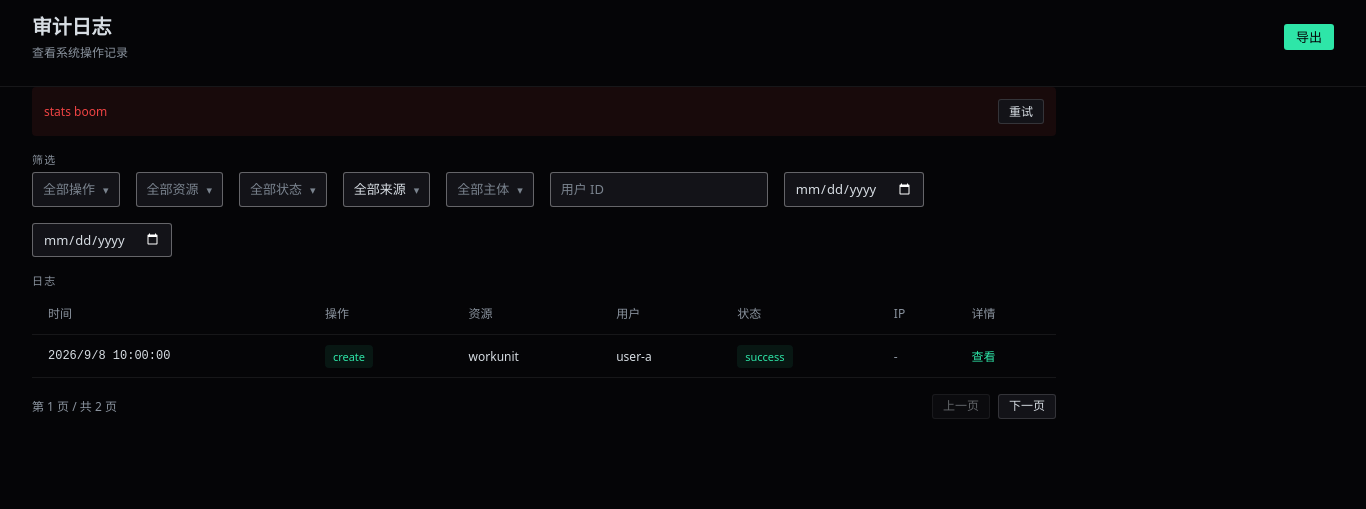
Test case: AuditLogsPage（E7 审计日志页改造） › stats 子拉取失败：错误行 + 重试，点击后重拉恢复统计卡（原 try/catch 只 console.error 静默）
The width and height of the screenshot is (1366, 509).
Expected: the text "user-a" is shown, top-left (600, 335), bottom-right (721, 378)
Expected: the text "stats boom" is shown, top-left (44, 103), bottom-right (107, 120)
Click the button "重试". click: point(1021, 111)
box: top-left (998, 99), bottom-right (1044, 124)
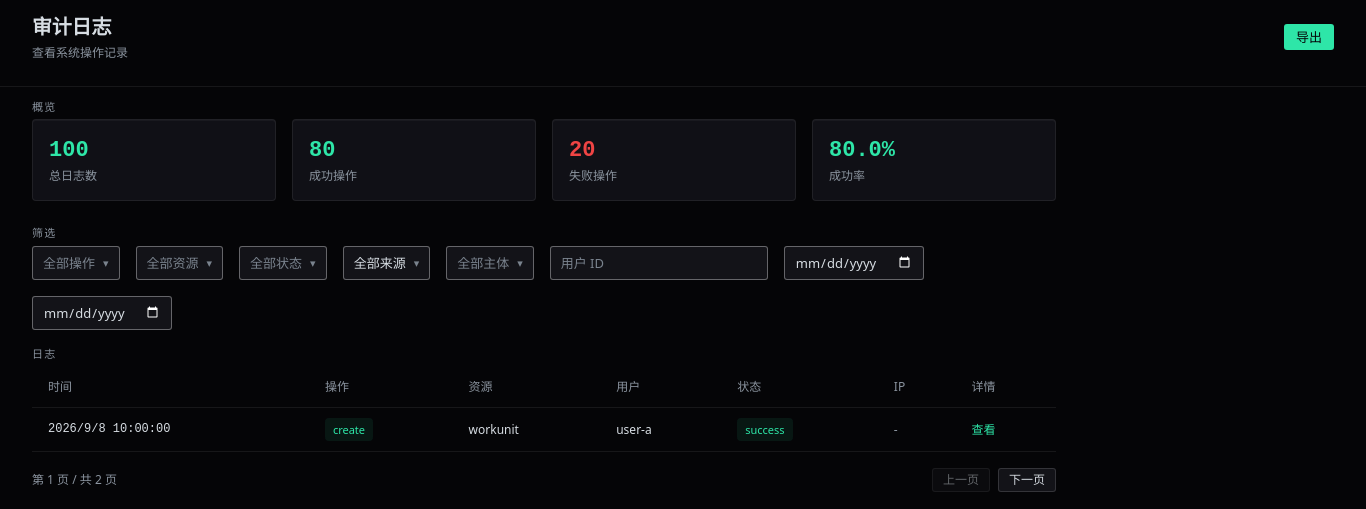
Expected: the text "总日志数" is shown, top-left (49, 167), bottom-right (97, 184)
Expected: the text "stats boom" is gone
